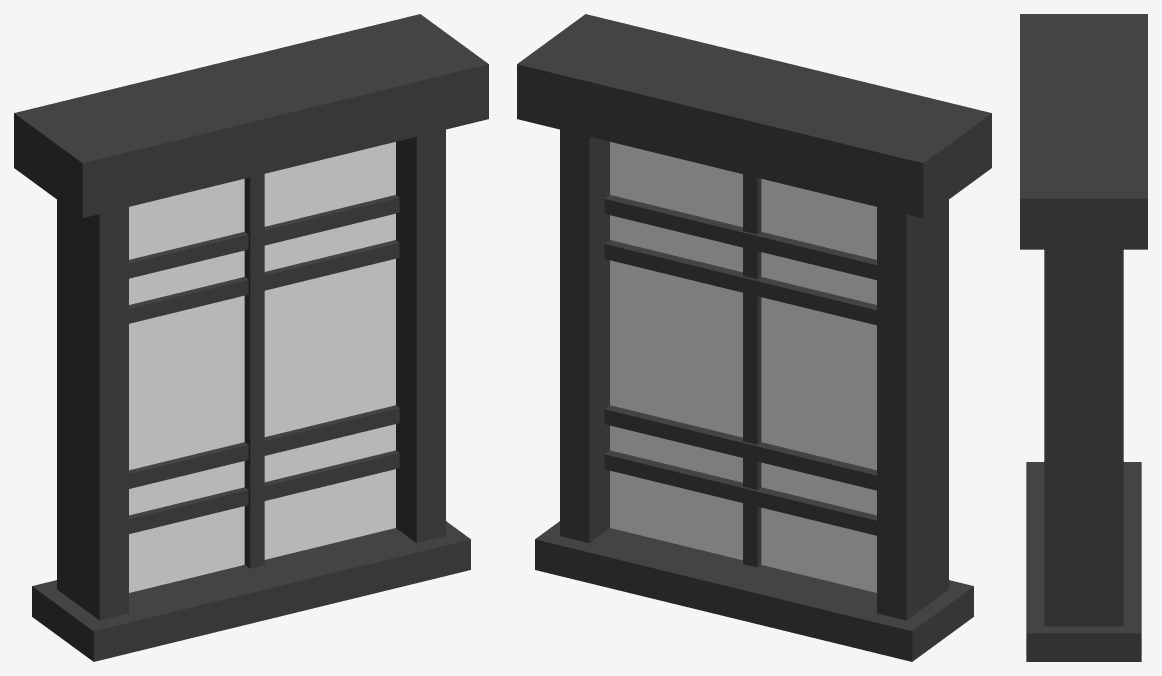
Rendered from window_022.fbx.
3 views of the same model, side by side, from view 1: azimuth 30°, elevation 25°; view 2: azimuth 150°, elevation 25°; view 3: azimuth 270°, elevation 25° (orthographic). The views are drawn at different scales.
Parts seen in each view (by area): view 1: window_022; view 2: window_022; view 3: window_022.
Part boxes in pixels (bbox=[...]): window_022: bbox=[14, 14, 488, 661]; window_022: bbox=[517, 14, 991, 661]; window_022: bbox=[1020, 14, 1147, 661].
Size of the model in its own units: 162 by 47.45 by 193.
